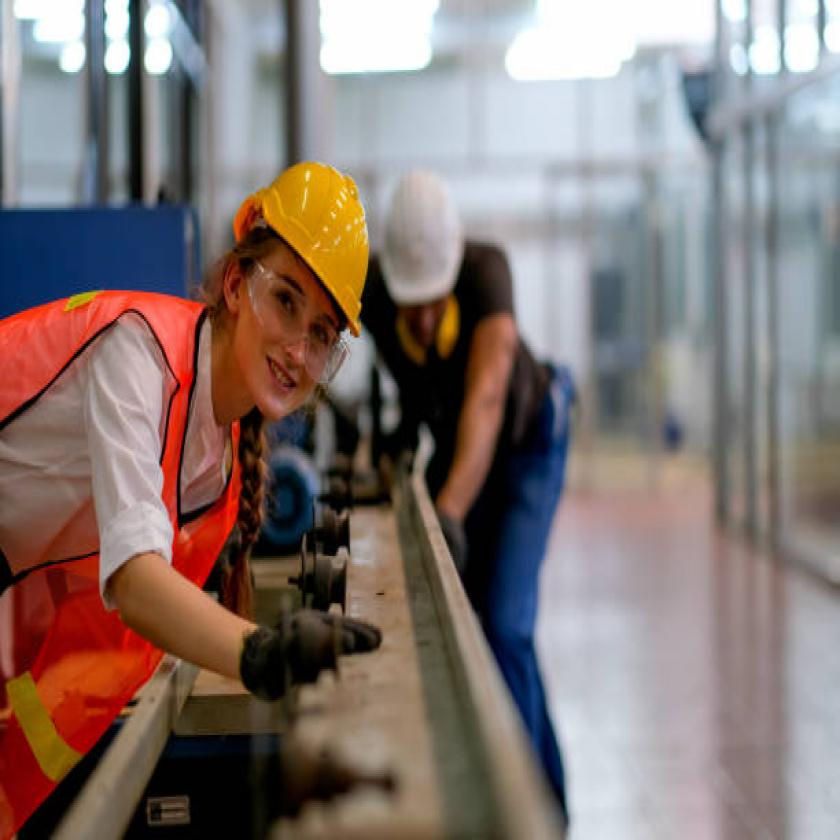Con_casco: (191, 99, 372, 472), (382, 140, 465, 346)
